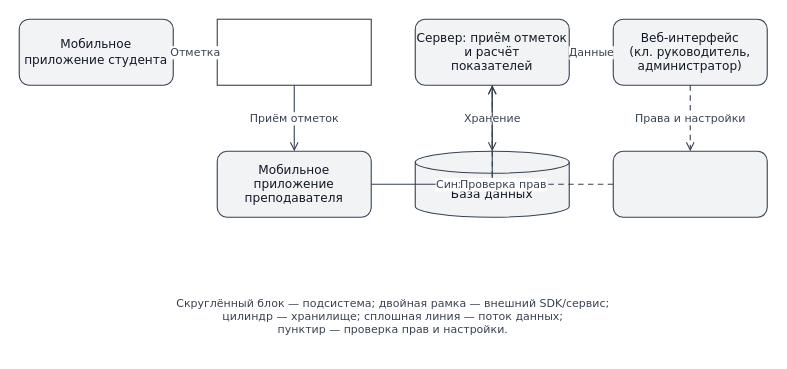
Some shapes in this 787 by 369 pixel diagram are drawn without their labels. Each missing label, with the centre of its shape:
SDK ближней связи (прямой канал): (x=293, y=51)
Аутентификация и разграничение доступа: (x=689, y=183)
